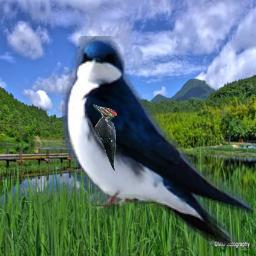Swallow: (62, 36, 253, 245)
Woodpecker: (92, 104, 117, 171)
